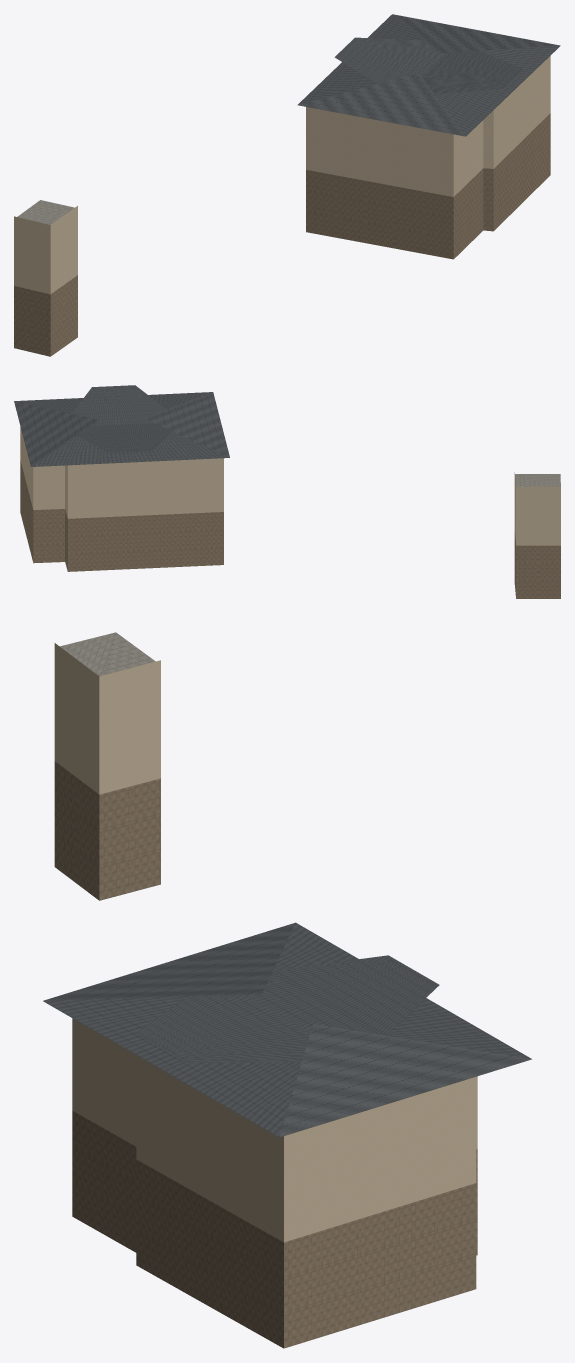
The model's file is bld_c18_30_374.gltf.
The picture shows the model from 3 angles, top to bottom: view 1: azimuth 30°, elevation 25°; view 2: azimuth 150°, elevation 25°; view 3: azimuth 270°, elevation 25°; orthographic projection. The views are drawn at different scales.
Parts seen in each view (by area): view 1: bld_c18_30_374; view 2: bld_c18_30_374; view 3: bld_c18_30_374.
Boxes of the visible parts, x1,y1,x2,y2 form: bld_c18_30_374: [14, 14, 560, 356]; bld_c18_30_374: [14, 385, 560, 598]; bld_c18_30_374: [43, 632, 531, 1348].
Bounding box in the file's own units: 50.92 × 11.5 × 21.34.
5 materials, 5 textured.
